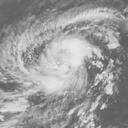cyclone: (3, 6, 113, 113)
